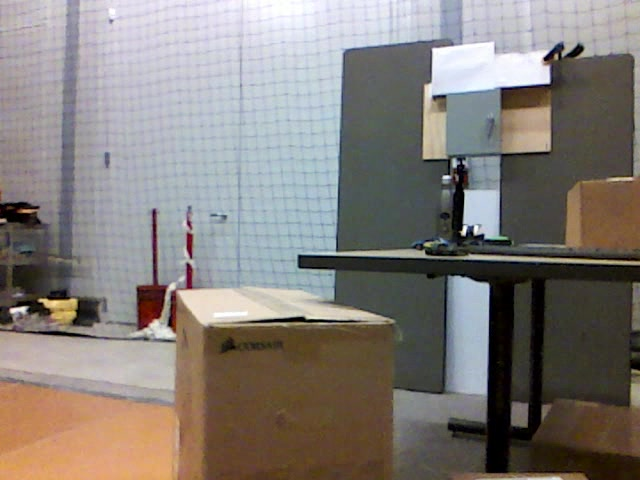box: (176, 288, 396, 477), (532, 398, 640, 477), (566, 176, 640, 250)
